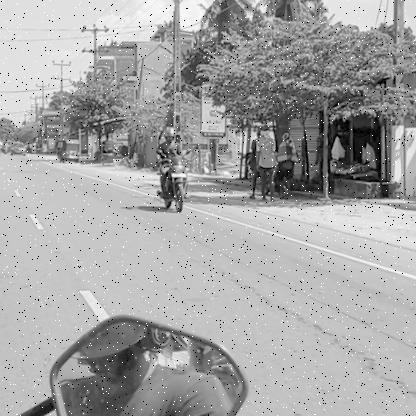motorcycle: (154, 156, 196, 216)
